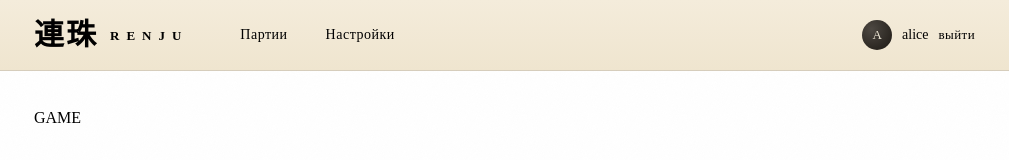
клик по бренду → переход на главный экран (выход из партии)
Check: the text "alice" is shown, box left=902, top=27, right=928, bottom=43
Check: the text "GAME" is shown, box left=34, top=109, right=81, bottom=126
Step 1. Click the button "連珠 Renju" → click(111, 35), box left=34, top=20, right=188, bottom=50
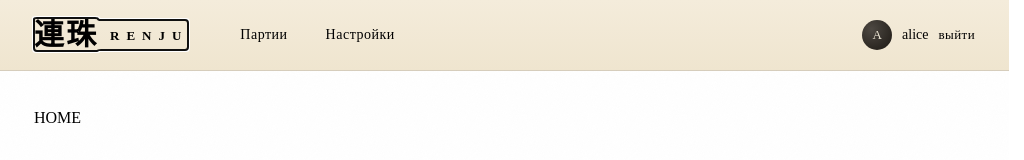
Check: the text "HOME" is shown, box left=34, top=109, right=81, bottom=126
